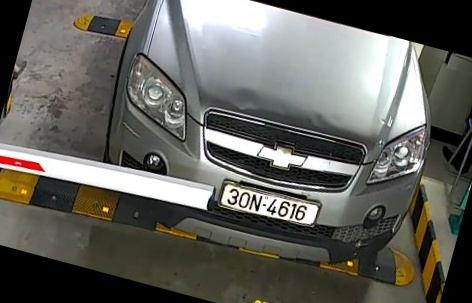plate: (209, 174, 324, 237)
